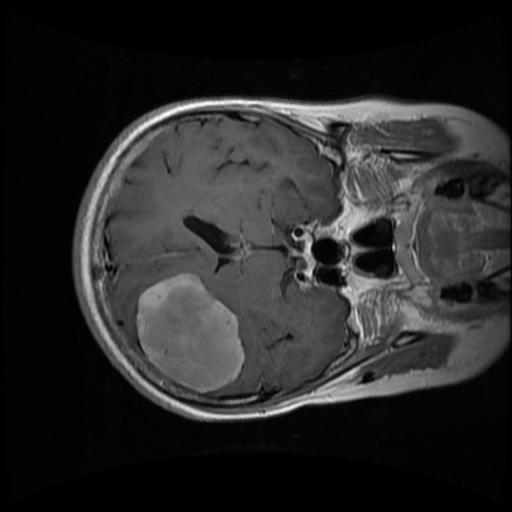meningioma: (135, 273, 244, 394)
